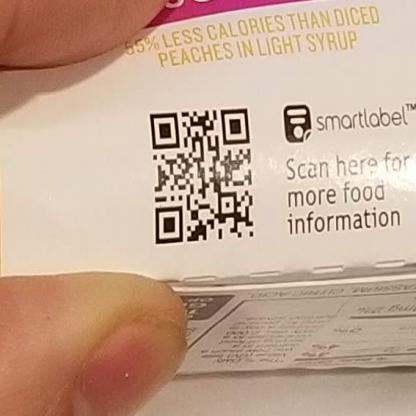qr: (146, 105, 258, 246)
